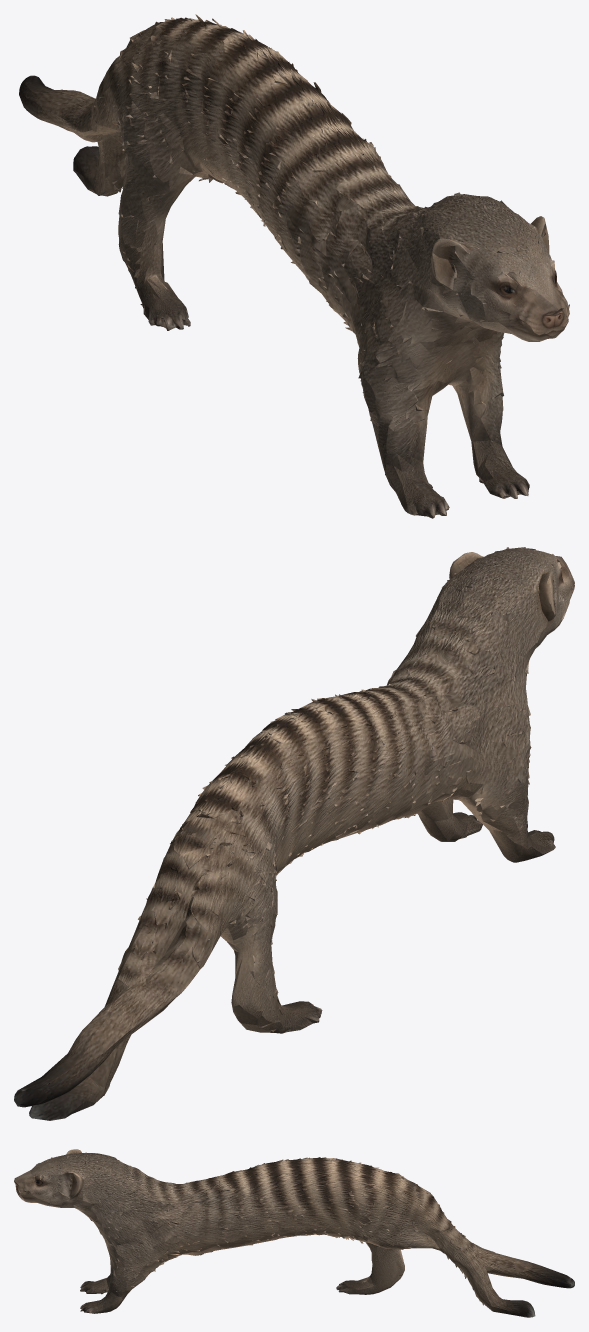
Rendered from banded-mongoose.glb.
The picture shows the model from 3 angles, top to bottom: view 1: azimuth 30°, elevation 25°; view 2: azimuth 150°, elevation 25°; view 3: azimuth 270°, elevation 25°; orthographic projection. The views are drawn at different scales.
Bounding box in the file's own units: 0.2775 × 0.5516 × 1.9.
1 material, 1 textured.
